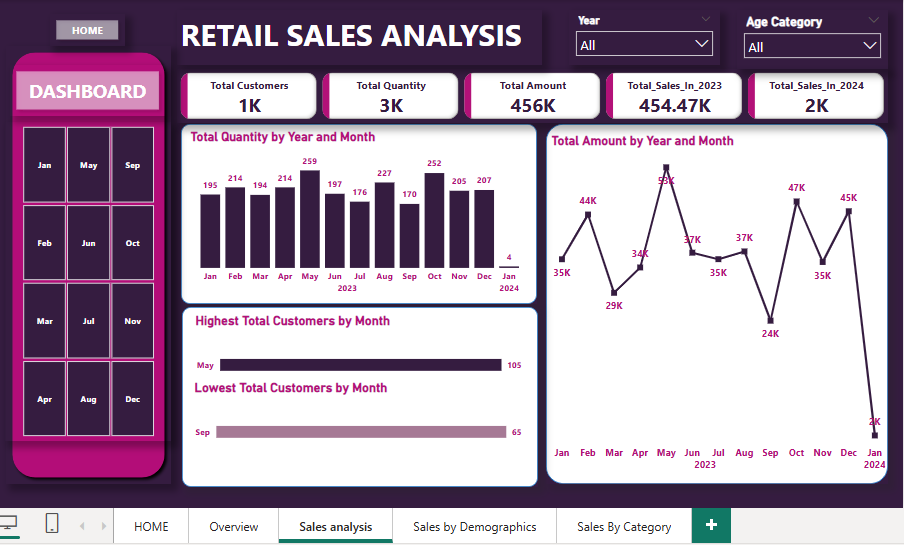

Layout of this report page (visuals, bound fields, positions):
{"tool":"powerbi","page":{"name":"Sales analysis","canvas":[1280,720],"ordinal":2},"visuals":[{"type":"shape","box":[775.3,175.7,484.7,510.2],"z":0},{"type":"shape","box":[258,175.7,504.6,255.1],"z":1000},{"type":"lineChart","fields":{"Y":["All Kpi.Total Amount"],"Category":["retail_sales_dataset.Year Hierarchy.Year","retail_sales_dataset.Year Hierarchy.Month"]},"box":[778.1,188.5,483.3,493.2],"z":2000},{"type":"slicer","fields":{"Values":["retail_sales_dataset.Year"]},"box":[808.1,14.4,213.6,77.9],"z":3000},{"type":"cardVisual","fields":{"Data":["All Kpi.Total Customers","All Kpi.Total Quantity","All Kpi.Total Amount","All Kpi.Total_Sales_In_2023","All Kpi.Total_Sales_In_2024"]},"box":[252.3,97.8,1007.7,76.5],"z":4000},{"type":"textbox","box":[252.5,14.4,516.6,77.9],"z":5000},{"type":"shape","box":[10.1,64.9,233.8,620.5],"z":6000},{"type":"actionButton","box":[15.6,92.1,219.7,72.3],"z":7000},{"type":"slicer","fields":{"Values":["retail_sales_dataset.Month"]},"box":[8.5,172.9,235.3,452.1],"z":8000},{"type":"columnChart","fields":{"Category":["retail_sales_dataset.Year Hierarchy.Year","retail_sales_dataset.Year Hierarchy.Month"],"Y":["All Kpi.Total Quantity"]},"box":[266.5,182.8,490.4,248],"z":9000},{"type":"slicer","fields":{"Values":["retail_sales_dataset.Age Category"]},"box":[1046,14.2,214,83.6],"z":10000},{"type":"shape","box":[259.4,435.1,504.6,255.1],"z":11000},{"type":"barChart","title":"Highest Total Customers by Month","fields":{"Y":["All Kpi.Total Customers"],"Category":["retail_sales_dataset.Month"]},"box":[273.8,443.5,475.4,119.3],"z":12000},{"type":"barChart","title":"Lowest Total Customers by Month","fields":{"Y":["All Kpi.Total Customers"],"Category":["retail_sales_dataset.Month"]},"box":[272.1,539.2,475.4,119.3],"z":13000},{"type":"actionButton","box":[72.3,19.8,106.3,45.4],"z":14000}]}

Visuals, with their boxes on the page's 1280x720 design canvas (x1, y1, x2, y2). These are canvas units, not pixel positions in the 904x545 screenshot, which may show the page scaled, cropped or inside an application window:
shape: rect(775, 176, 1260, 686)
shape: rect(258, 176, 763, 431)
lineChart - All Kpi.Total Amount x retail_sales_dataset.Year Hierarchy.Year: rect(778, 188, 1261, 682)
slicer - retail_sales_dataset.Year: rect(808, 14, 1022, 92)
cardVisual - All Kpi.Total Customers x All Kpi.Total Quantity: rect(252, 98, 1260, 174)
textbox: rect(252, 14, 769, 92)
shape: rect(10, 65, 244, 685)
actionButton: rect(16, 92, 235, 164)
slicer - retail_sales_dataset.Month: rect(8, 173, 244, 625)
columnChart - retail_sales_dataset.Year Hierarchy.Year x retail_sales_dataset.Year Hierarchy.Month: rect(266, 183, 757, 431)
slicer - retail_sales_dataset.Age Category: rect(1046, 14, 1260, 98)
shape: rect(259, 435, 764, 690)
"Highest Total Customers by Month" barChart: rect(274, 444, 749, 563)
"Lowest Total Customers by Month" barChart: rect(272, 539, 748, 658)
actionButton: rect(72, 20, 179, 65)
